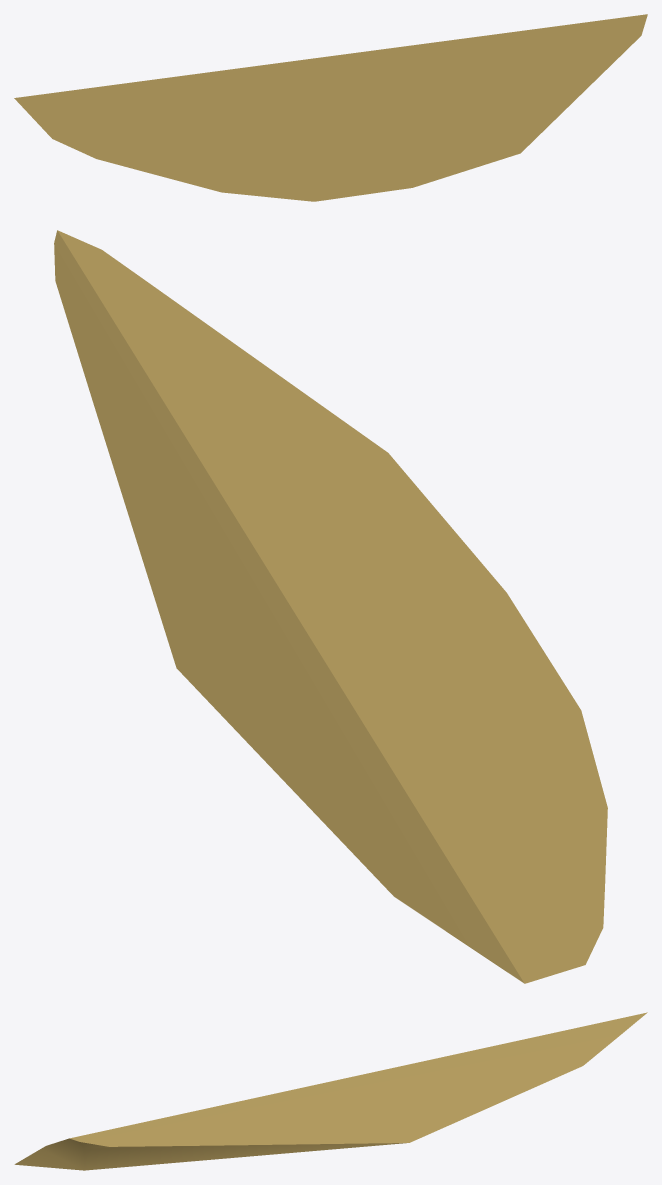
File: broken_pot_cell.033.fbx
3 views of the same model, one above another, from view 1: azimuth 30°, elevation 25°; view 2: azimuth 150°, elevation 25°; view 3: azimuth 270°, elevation 25° (orthographic). The views are drawn at different scales.
Visible parts, largest first — view 1: broken_pot_cell.033; view 2: broken_pot_cell.033; view 3: broken_pot_cell.033.
Part boxes in pixels (box(x1,y1,x2,y2)): broken_pot_cell.033: box(14, 14, 647, 201); broken_pot_cell.033: box(54, 230, 607, 983); broken_pot_cell.033: box(14, 1012, 647, 1170).
Bounding box in the file's own units: 0.5943 × 0.52 × 0.1937.
